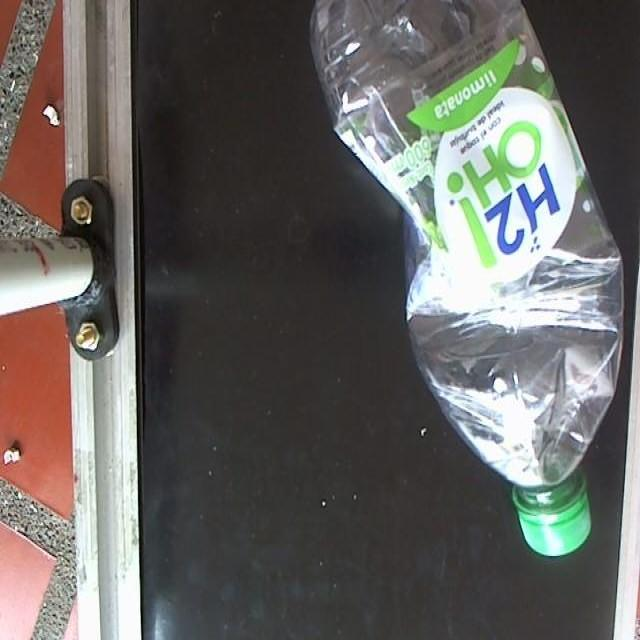defect: (306, 0, 628, 562)
